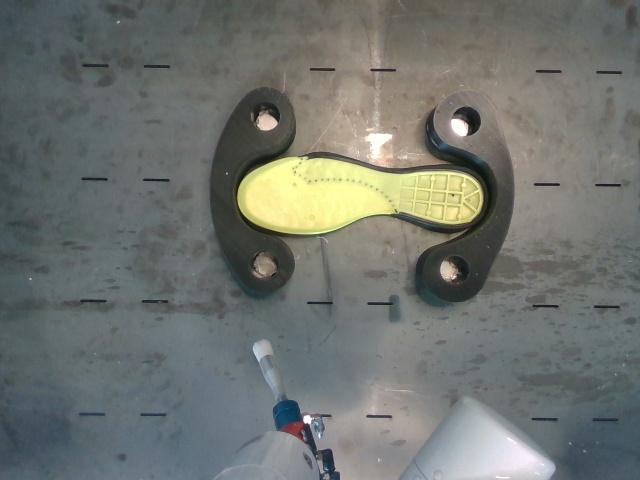shoes: (238, 152, 488, 234)
